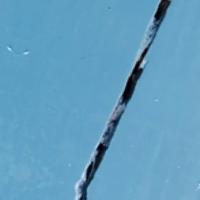crack: (72, 0, 182, 199)
